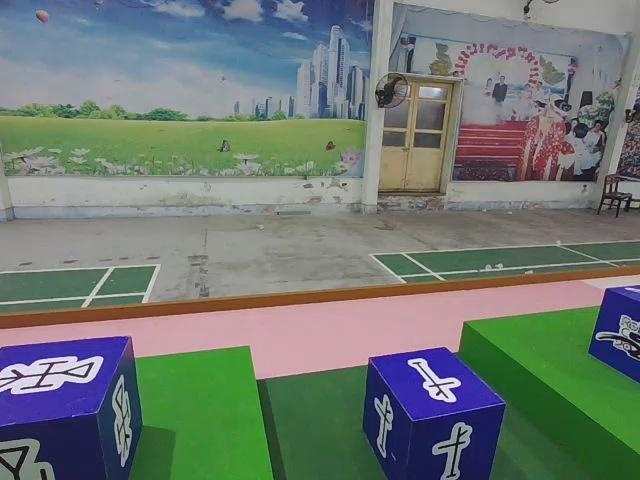R1 Blue: (589, 285, 640, 391)
R2 Real Blue: (0, 338, 141, 480), (363, 348, 505, 480)
